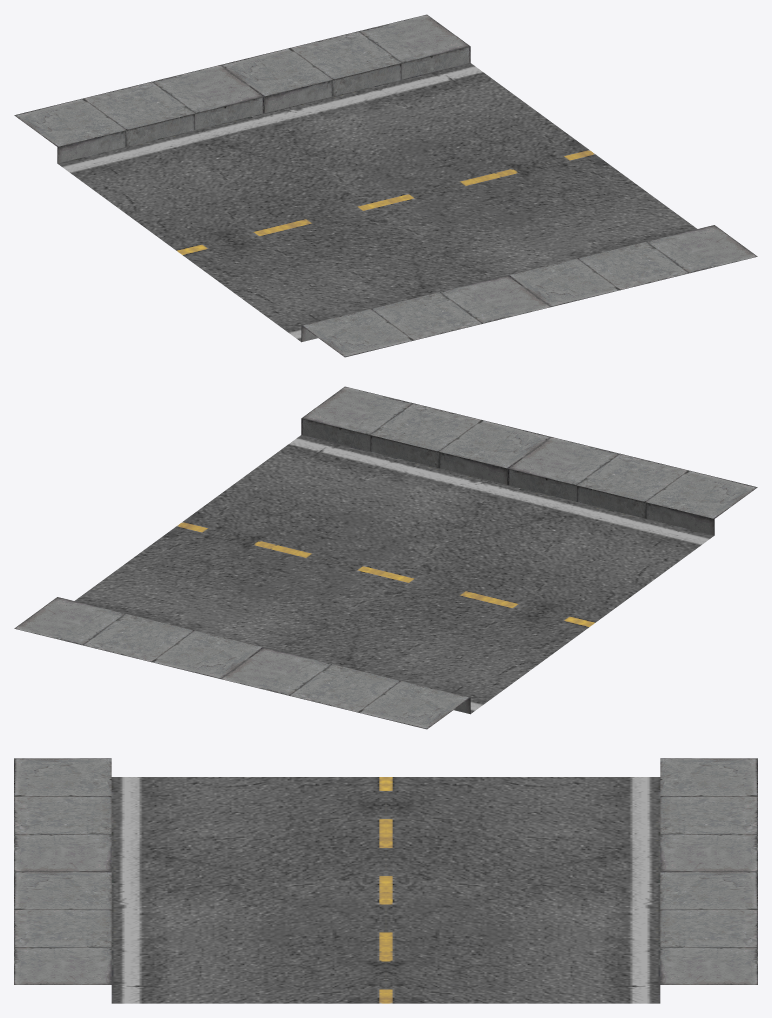
Rendered from Street_01.fbx.
3 renders of one model, top to bottom at view 1: azimuth 30°, elevation 25°; view 2: azimuth 150°, elevation 25°; view 3: azimuth 270°, elevation 25°, orthographic. The views are drawn at different scales.
Visible parts, largest first — view 1: Road_normal; view 2: Road_normal; view 3: Road_normal.
Part boxes in pixels (x1,y1,x2,y2): Road_normal: [14, 14, 757, 357]; Road_normal: [14, 386, 757, 729]; Road_normal: [14, 758, 757, 1003].
Size of the model in its own units: 653 by 25 by 906.
Materials: 1 (1 with a texture image).
